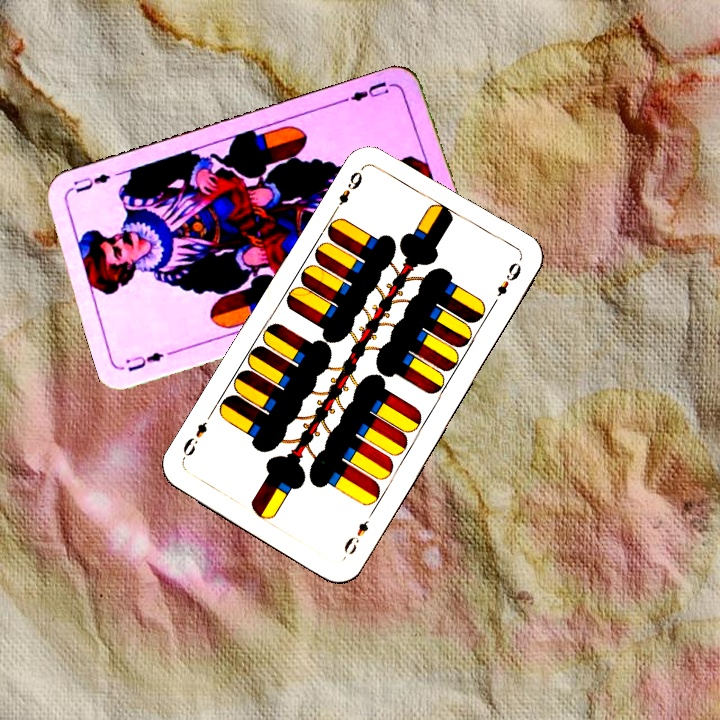E9: (329, 163, 367, 216), (339, 516, 371, 558)
EU: (340, 77, 398, 105), (121, 347, 167, 374)
